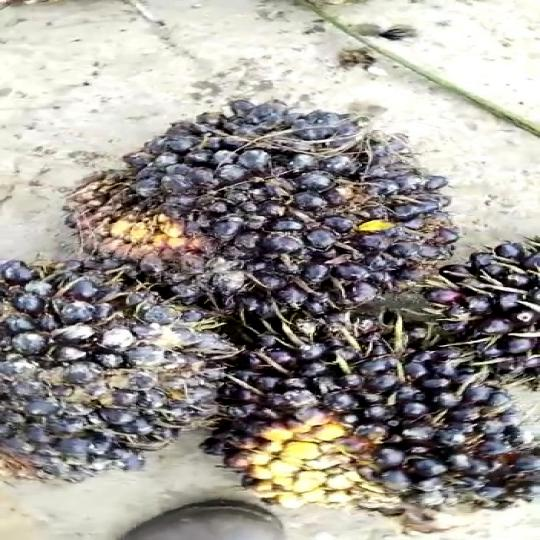mentah: (106, 97, 456, 323), (199, 316, 540, 527), (0, 242, 236, 468)
